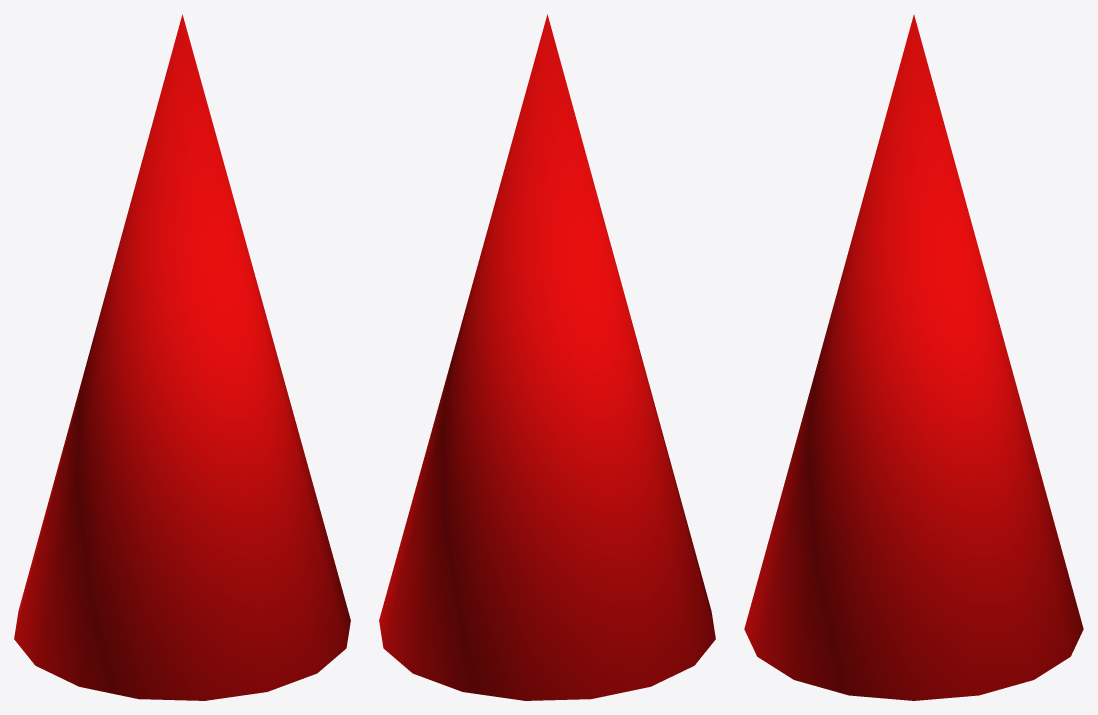
File: missile.fbx
3 renders of one model, left to right at view 1: azimuth 30°, elevation 25°; view 2: azimuth 150°, elevation 25°; view 3: azimuth 270°, elevation 25°, orthographic.
Visible parts, largest first — view 1: Cone; view 2: Cone; view 3: Cone.
Part boxes in pixels (x1,y1,x2,y2): Cone: (14,14,350,700); Cone: (379,14,715,700); Cone: (744,15,1083,700).
Bounding box in the file's own units: 2 × 4 × 2.
